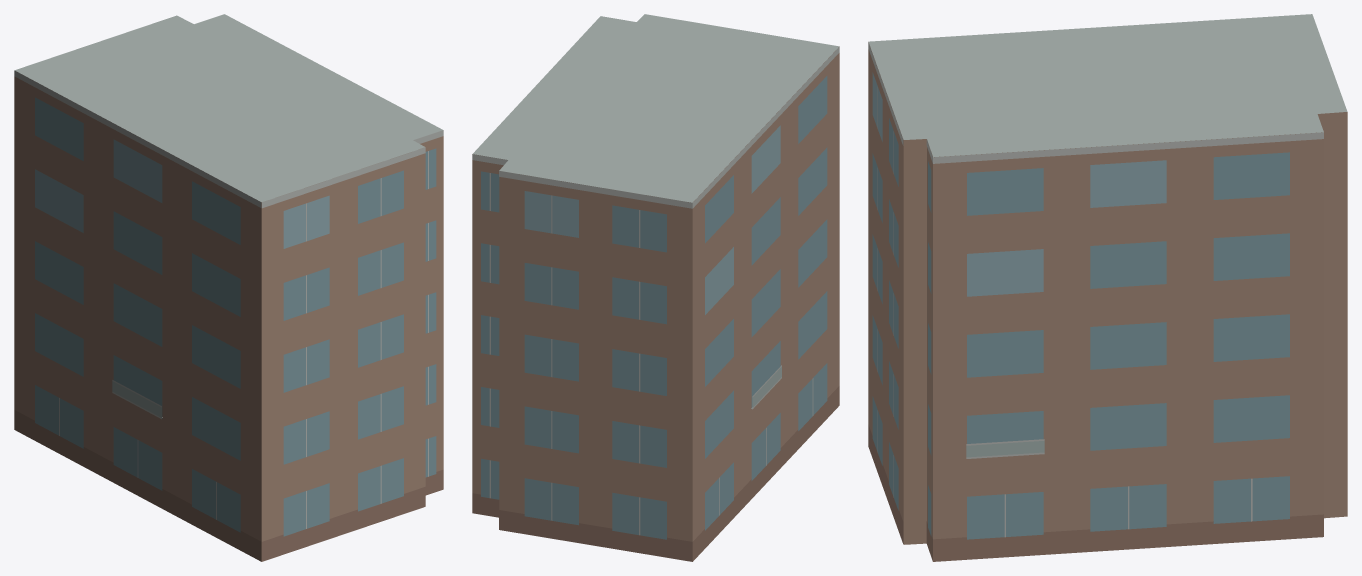
The model's file is survey-upis-32523886.glb.
3 views of the same model, side by side, from view 1: azimuth 30°, elevation 25°; view 2: azimuth 150°, elevation 25°; view 3: azimuth 270°, elevation 25° (orthographic). The views are drawn at different scales.
Visible parts, largest first — view 1: survey-upis-32523886.tmp; view 2: survey-upis-32523886.tmp; view 3: survey-upis-32523886.tmp.
Part boxes in pixels (x1,y1,x2,y2): survey-upis-32523886.tmp: (14, 14, 443, 561); survey-upis-32523886.tmp: (472, 14, 839, 561); survey-upis-32523886.tmp: (868, 14, 1347, 561).
Size of the model in its own units: 11.09 by 14.6 by 15.68.
